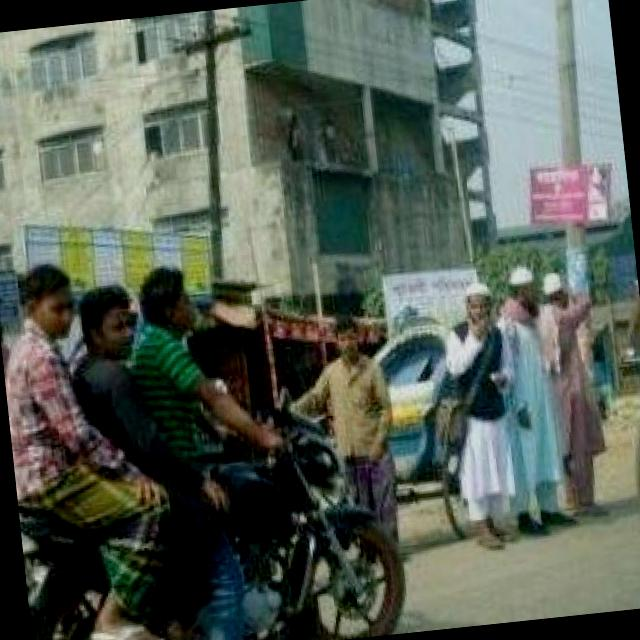motorcycle: (11, 406, 413, 640)
person: (116, 257, 267, 580), (0, 253, 118, 605), (59, 272, 160, 526)
rider_region: (0, 234, 401, 640)
